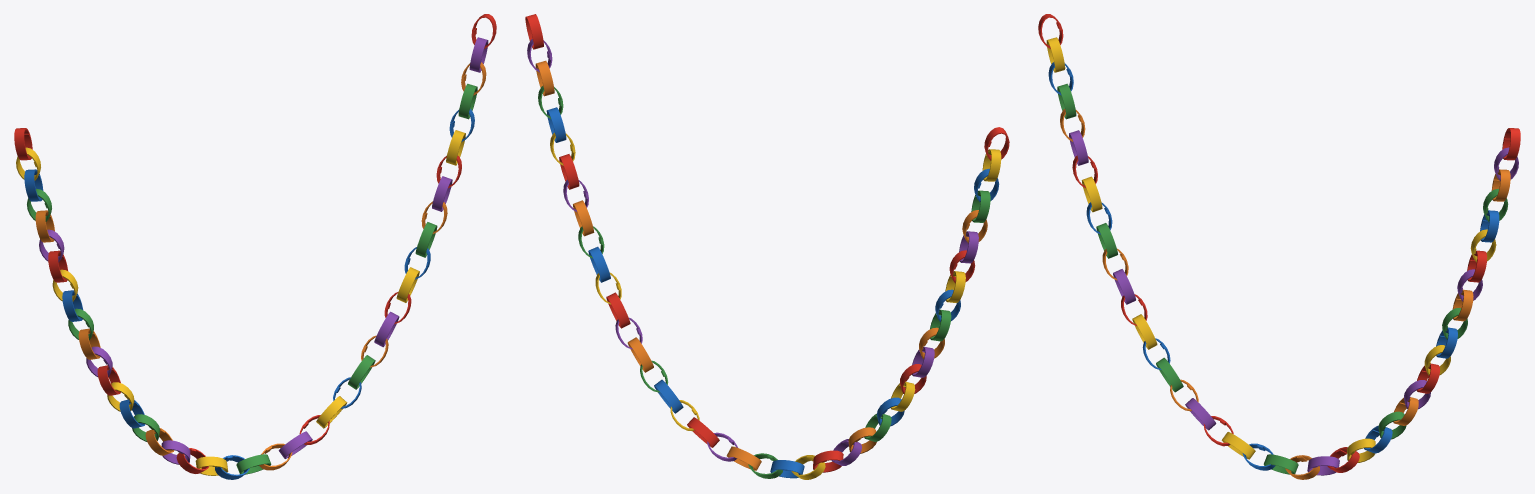
The model's file is paper-chain.fbx.
The picture shows the model from 3 angles, left to right: view 1: azimuth 30°, elevation 25°; view 2: azimuth 150°, elevation 25°; view 3: azimuth 330°, elevation 25°; orthographic projection.
Visible parts, largest first — view 1: paper-chain; view 2: paper-chain; view 3: paper-chain.
Boxes of the visible parts, box(x1,y1,x2,y2) form: paper-chain: box(14, 14, 496, 479); paper-chain: box(525, 14, 1009, 479); paper-chain: box(1038, 14, 1520, 479).
Size of the model in its own units: 22000 by 17600 by 1200.
Materials: 1 (1 with a texture image).
